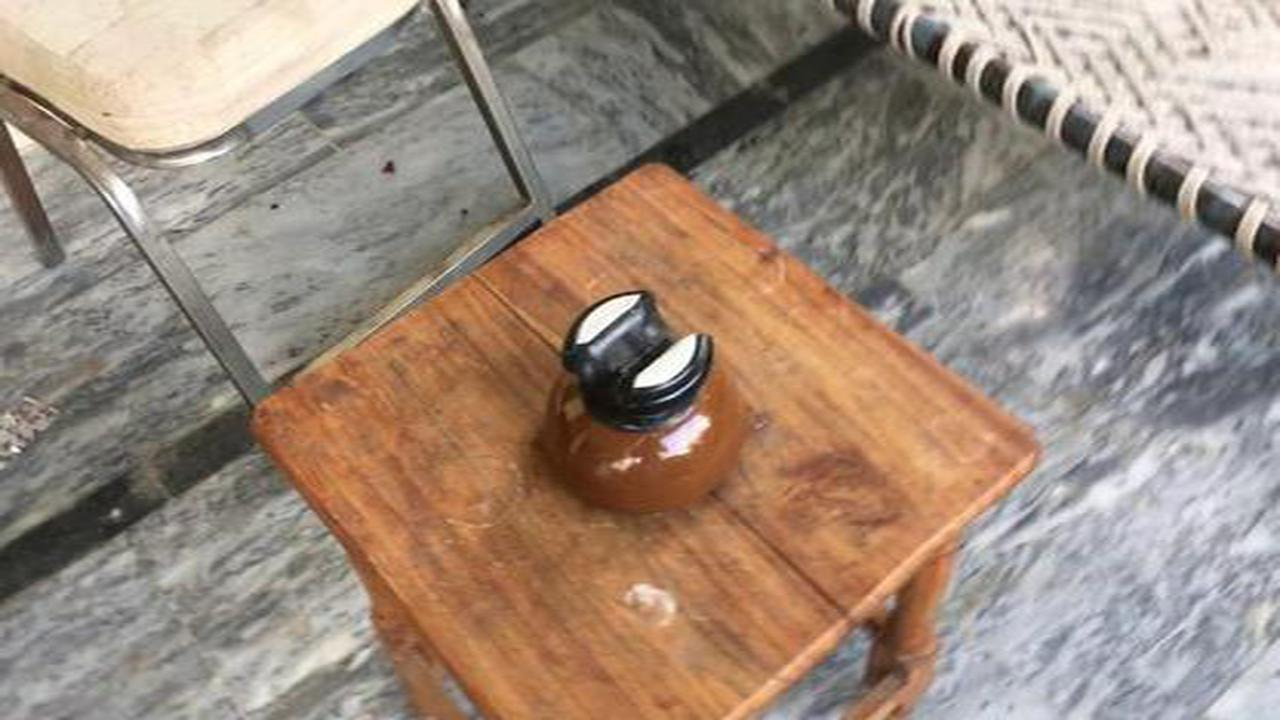insulator_pin: (499, 277, 773, 532)
